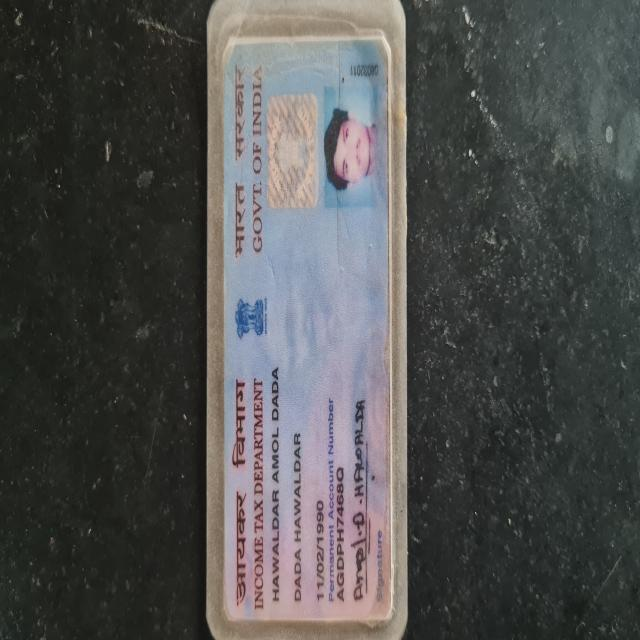pan_card: (9, 495, 266, 640)
